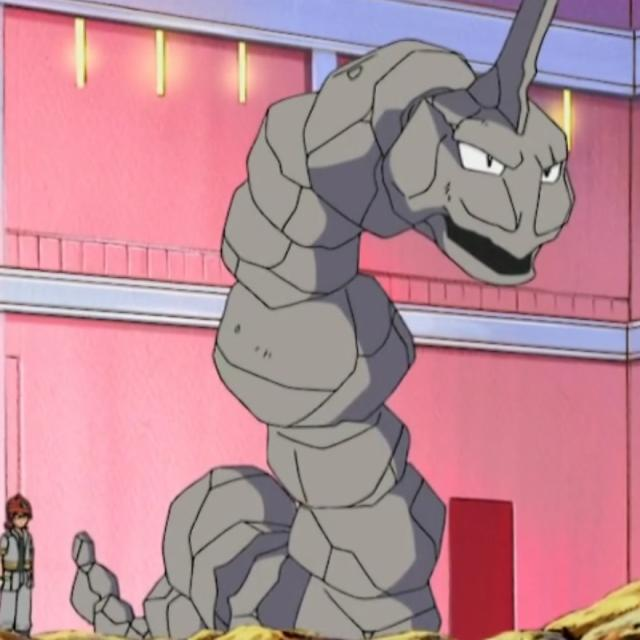Onix: (211, 39, 576, 640)
